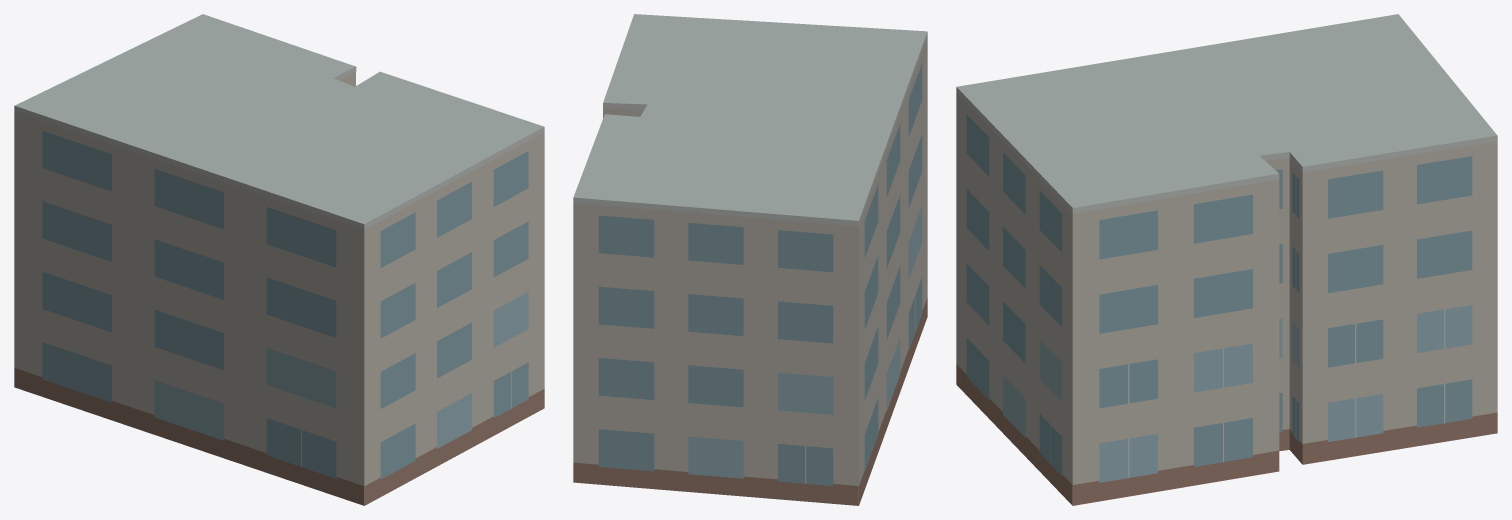
File: survey-upis-32772117.glb
The picture shows the model from 3 angles, left to right: view 1: azimuth 30°, elevation 25°; view 2: azimuth 150°, elevation 25°; view 3: azimuth 270°, elevation 25°; orthographic projection. The views are drawn at different scales.
Visible parts, largest first — view 1: survey-upis-32772117.tmp; view 2: survey-upis-32772117.tmp; view 3: survey-upis-32772117.tmp.
Boxes of the visible parts, x1,y1,x2,y2 form: survey-upis-32772117.tmp: (14,14,544,505); survey-upis-32772117.tmp: (573,14,927,505); survey-upis-32772117.tmp: (956,14,1497,505).
Bounding box in the file's own units: 17.9 × 12.8 × 21.09.
